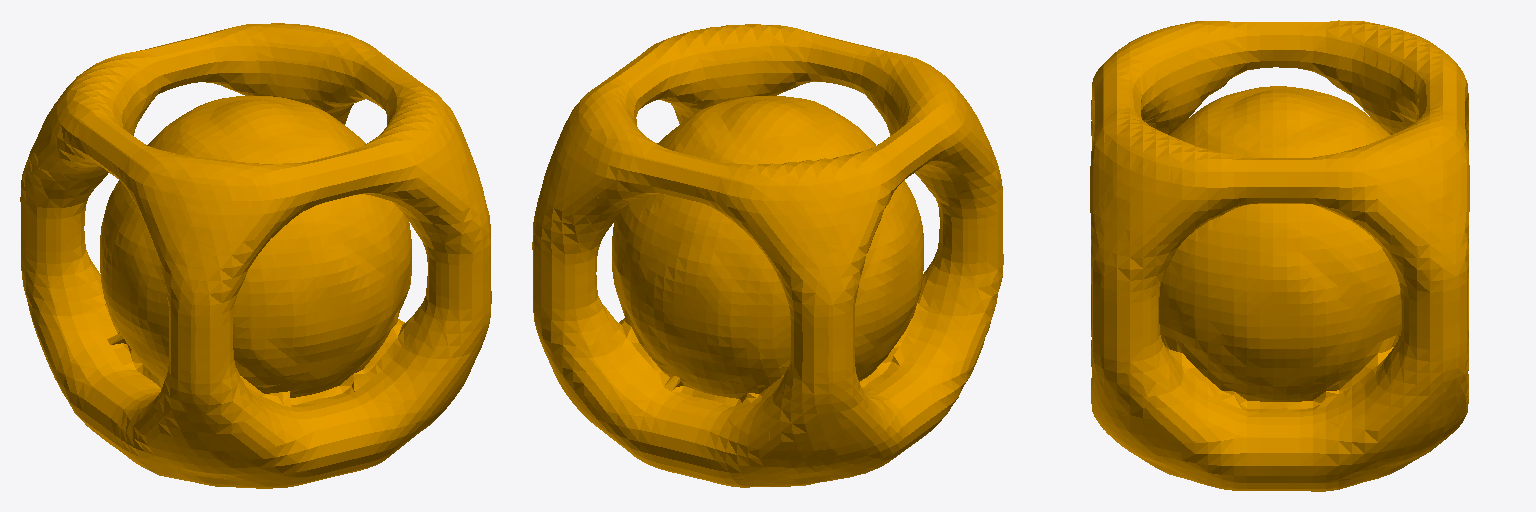
The robot description file, URDF, robot "object":
<?xml version="1.0"?>
        <robot name="object">
          <link name="object">
            <visual>
              <origin xyz="0.0 0.0 0.0"/>
              <geometry>
                <mesh filename="A2.stl" scale="1.00 1.00 1.00"/>
              </geometry>
            </visual>
            <collision>
              <origin xyz="0.0 0.0 0.0"/>
              <geometry>
                <mesh filename="A2.stl" scale="1.00 1.00 1.00"/>
              </geometry>
            </collision>
          </link>
        </robot>

--- Render facts (derived) ---
The picture shows the robot from 3 angles, left to right: view 1: azimuth 30°, elevation 25°; view 2: azimuth 150°, elevation 25°; view 3: azimuth 270°, elevation 25°; orthographic projection.
Model object with 1 links and 0 joints (none), rooted at object, posed every joint at zero.
Visible links, largest first — view 1: object; view 2: object; view 3: object.
Boxes of the visible links, bbox=[...] form: object: bbox=[20, 23, 491, 488]; object: bbox=[532, 24, 1003, 487]; object: bbox=[1090, 20, 1469, 491].
Bounding box of the posed robot: 0.0996 × 0.0995 × 0.1 m (x, y, z).
1 mesh visuals loaded from 1 distinct referenced files (1 binary STL).